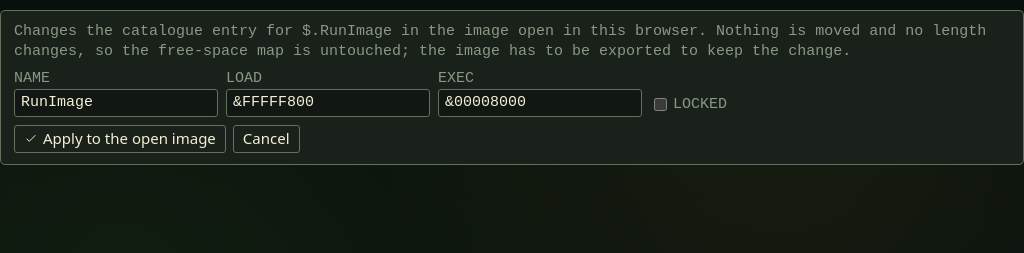
Test: changing one ADFS entry › refuses a name ADFS could not hold, and does not change the image
This screenshot has width=1024, height=253.
Step 1. Replace the text in the field named "Name of" with "A.B" → (116, 102), box [14,88,218,116]
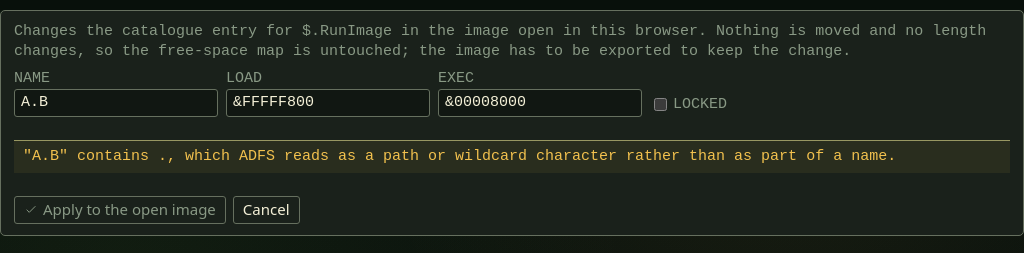
Expected: the button "Apply to the open image" is disabled, [14,196,226,224]
Expected: the message shows "path or wildcard character", [23,148,896,164]
